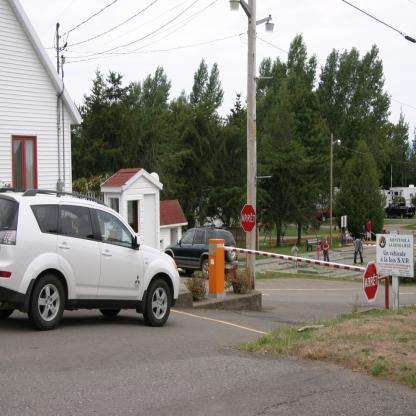Car: (0, 198, 173, 332), (162, 221, 238, 275)
